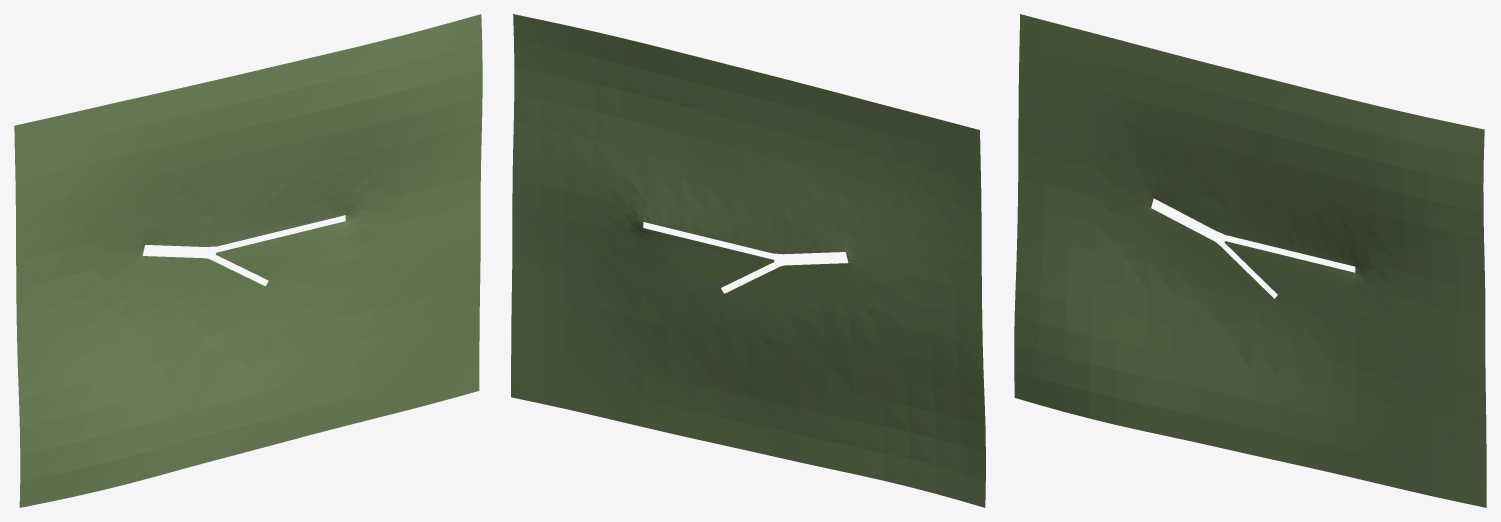
Rendered from Y_junction_1.obj.
The picture shows the model from 3 angles, left to right: view 1: azimuth 30°, elevation 25°; view 2: azimuth 150°, elevation 25°; view 3: azimuth 330°, elevation 25°; orthographic projection.
Visible parts, largest first — view 1: Background; view 2: Background; view 3: Background.
Part boxes in pixels (x1,y1,x2,y2): Background: (14, 14, 482, 507); Background: (511, 14, 985, 507); Background: (1014, 14, 1486, 507).
Size of the model in its own units: 720 by 560 by 25.31.
